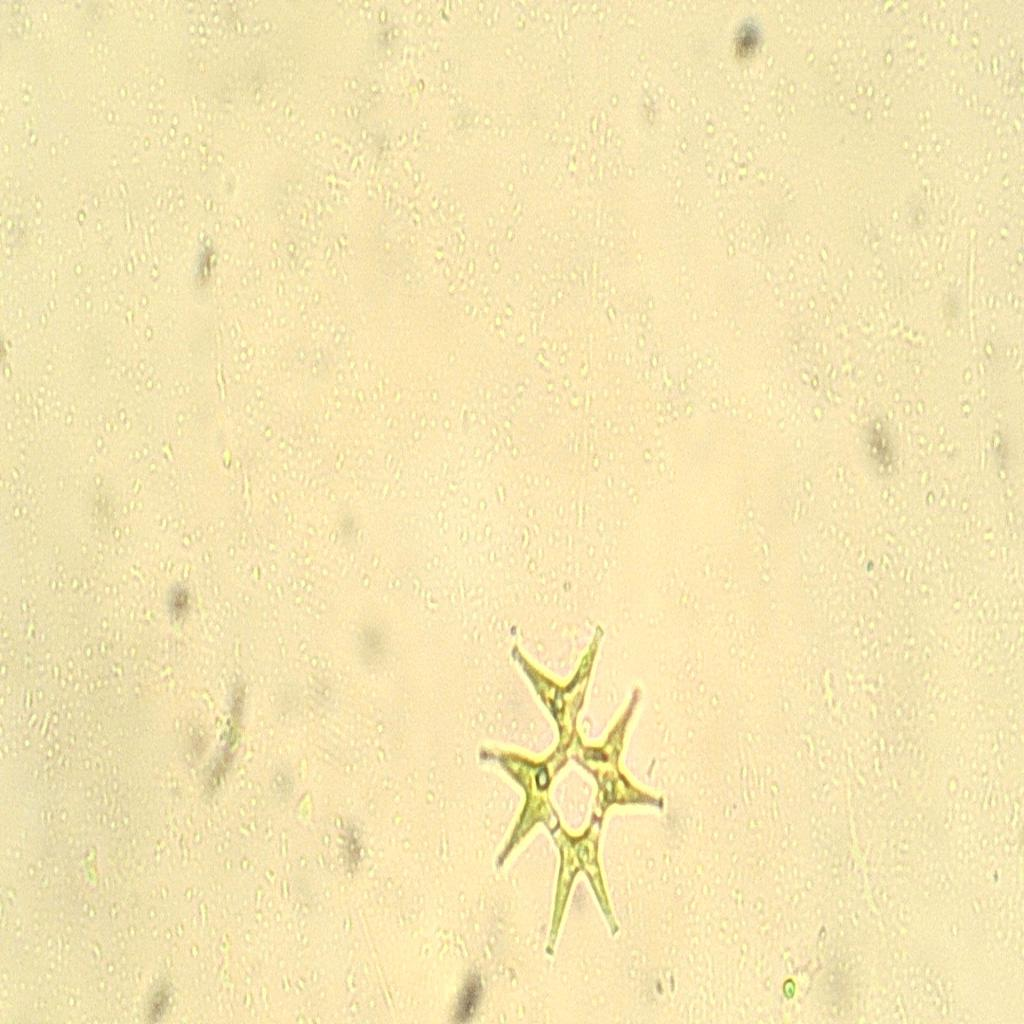Pediastrum_75FI: (472, 606, 682, 971)
